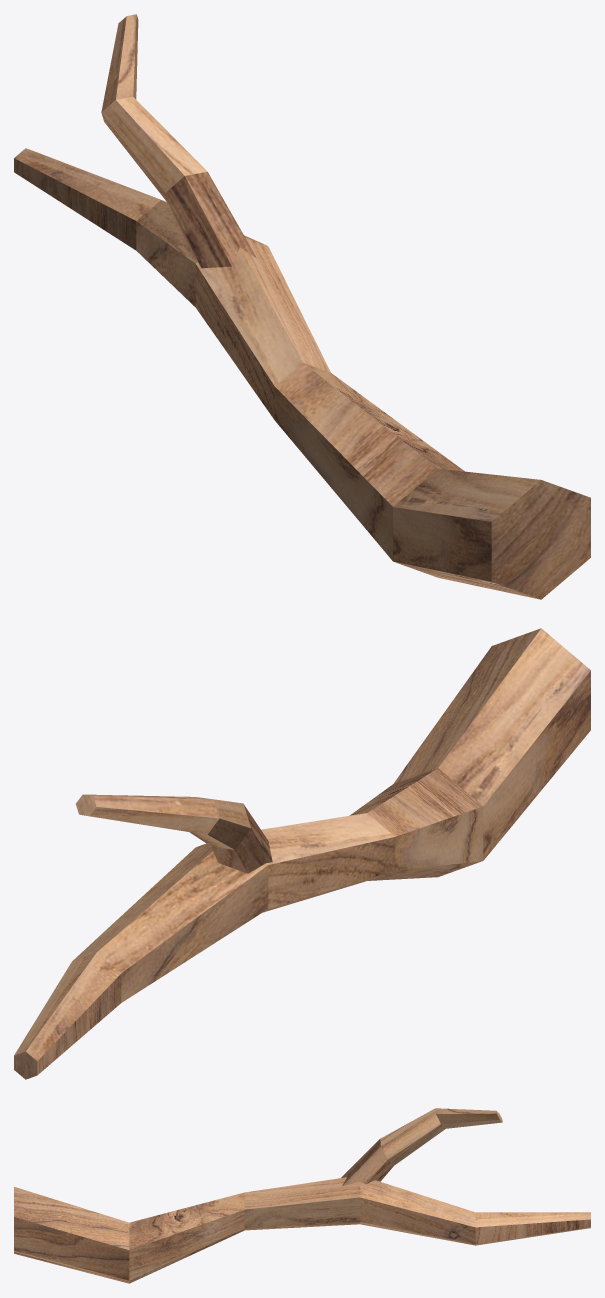
Rendered from left.gltf.
The picture shows the model from 3 angles, top to bottom: view 1: azimuth 30°, elevation 25°; view 2: azimuth 150°, elevation 25°; view 3: azimuth 270°, elevation 25°; orthographic projection. The views are drawn at different scales.
Parts seen in each view (by area): view 1: Cylinder.003; view 2: Cylinder.003; view 3: Cylinder.003.
Boxes of the visible parts, box(x1,y1,x2,y2) form: Cylinder.003: box(14, 14, 590, 599); Cylinder.003: box(14, 628, 590, 1079); Cylinder.003: box(14, 1108, 590, 1283).
Size of the model in its own units: 17.04 by 44.11 by 130.
Materials: 1 (1 with a texture image).
